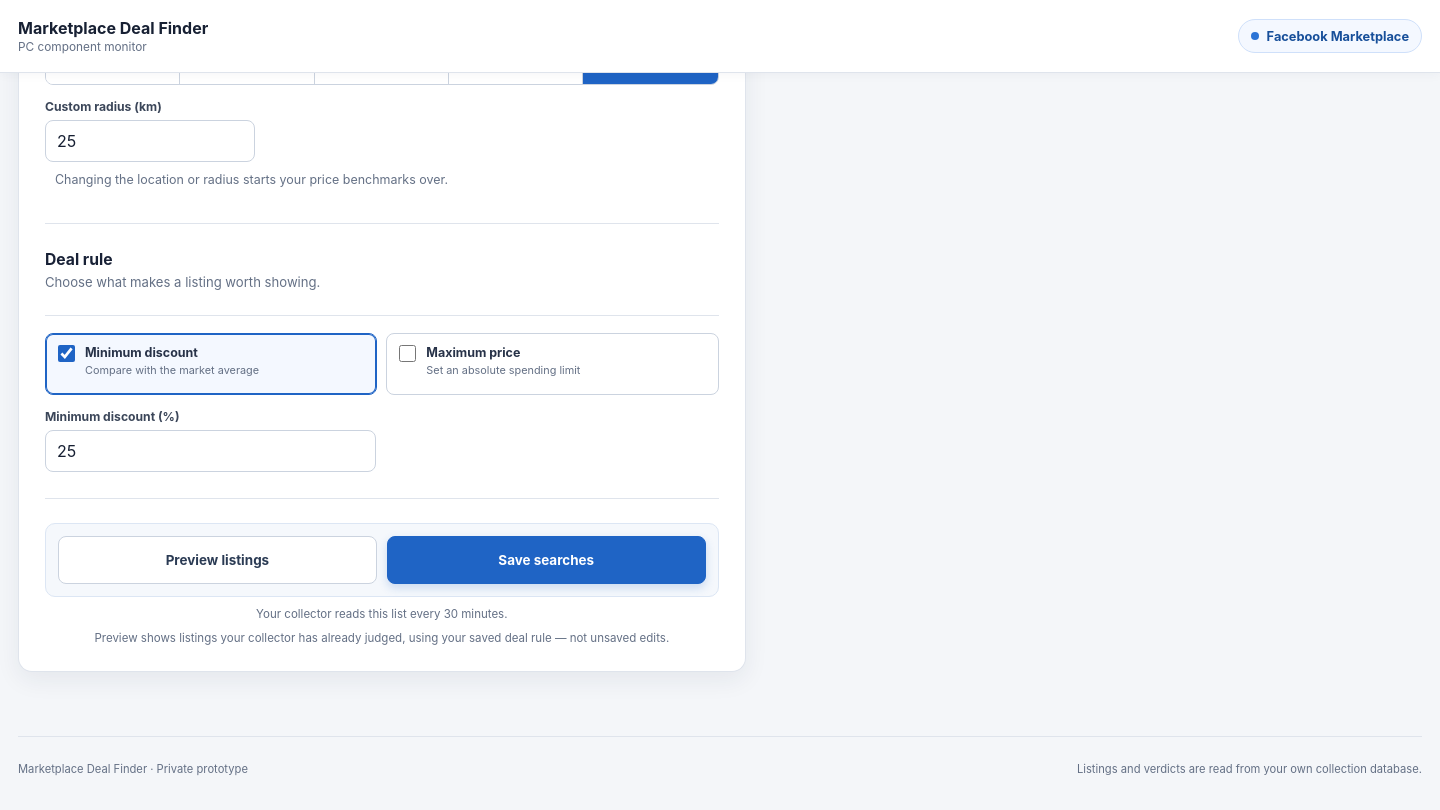
Marketplace Deal Finder › shows required-field errors when preview is submitted empty
(page scrolled)
Step 1. Click the button "Preview listings" → (217, 560), box [58, 536, 377, 584]
(page scrolled)
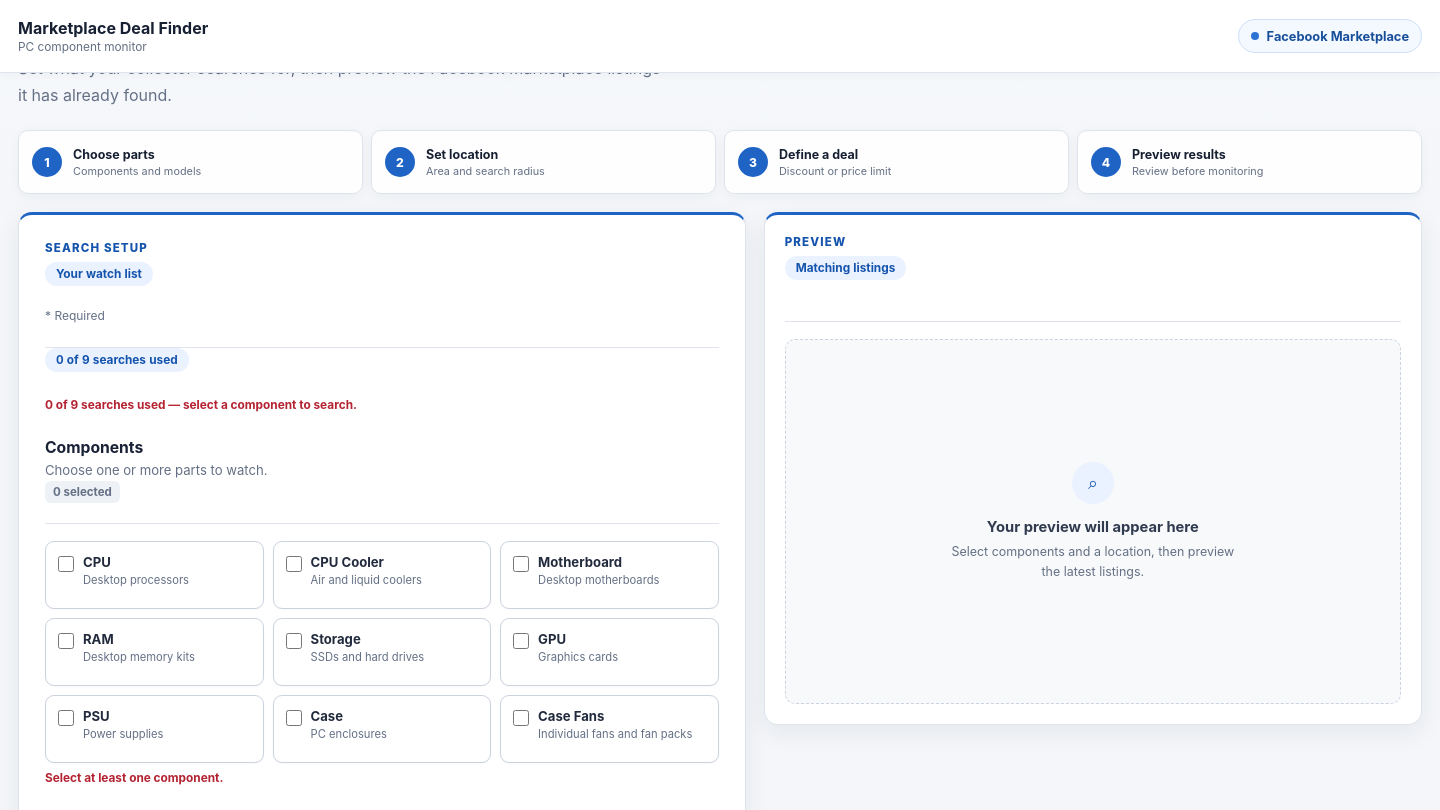
expect the text "Select at least one component." is shown: met, box [45, 771, 223, 785]
expect the text "0 of 9 searches used — select a component to search." is shown: met, box [45, 398, 357, 412]
